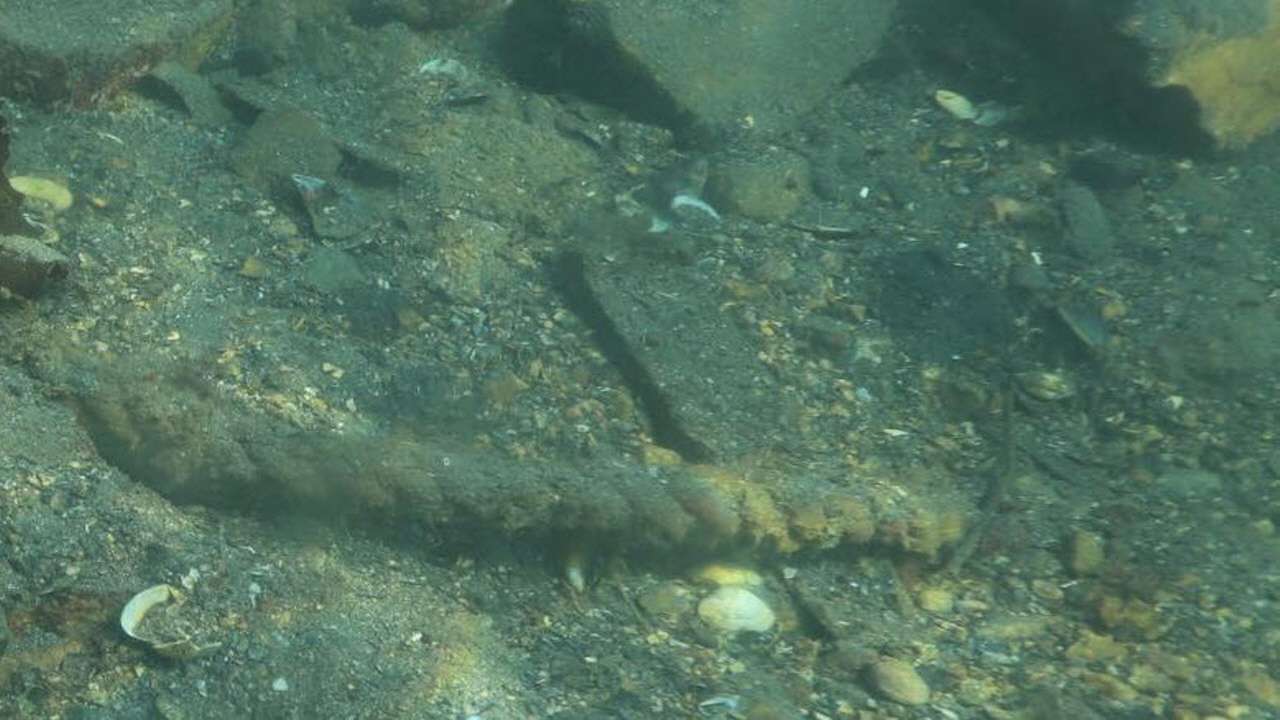rope: (70, 378, 943, 556)
